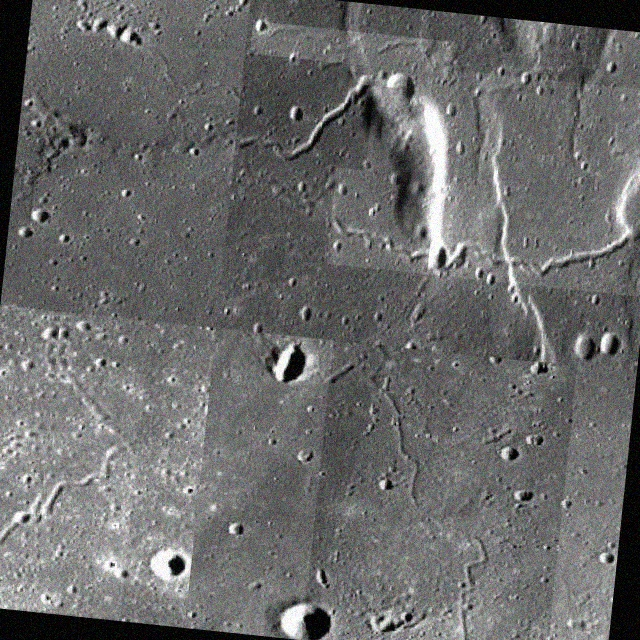crater: (301, 340, 576, 640), (326, 58, 640, 296), (0, 358, 145, 619), (234, 59, 376, 170), (249, 20, 453, 74), (140, 42, 244, 108)
